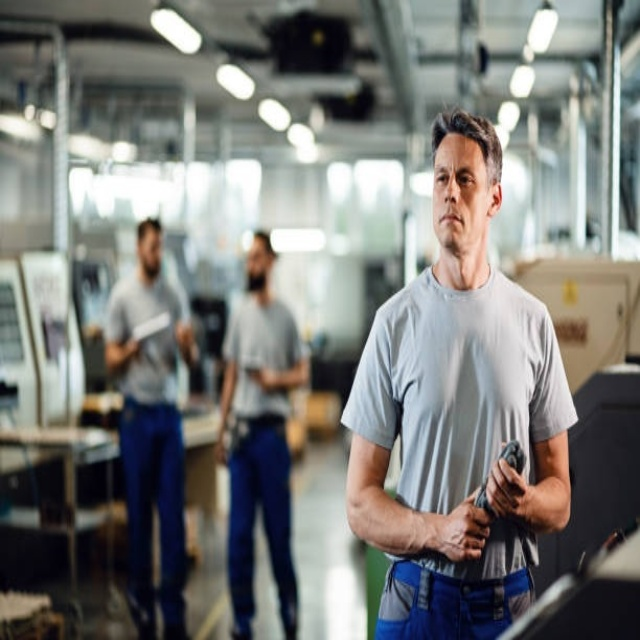Sin_gafas: (433, 155, 486, 199)
Sin_guantes: (434, 494, 489, 565), (483, 450, 530, 519)
Sin_mascara: (438, 205, 467, 243)
